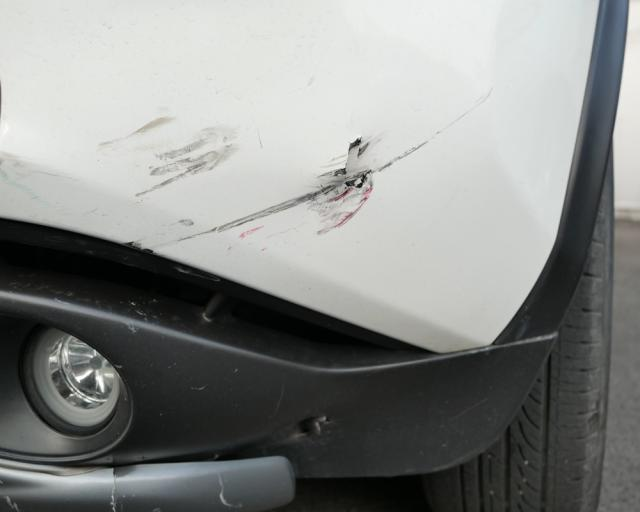crack: (112, 466, 118, 512)
scratch: (97, 86, 496, 259)
